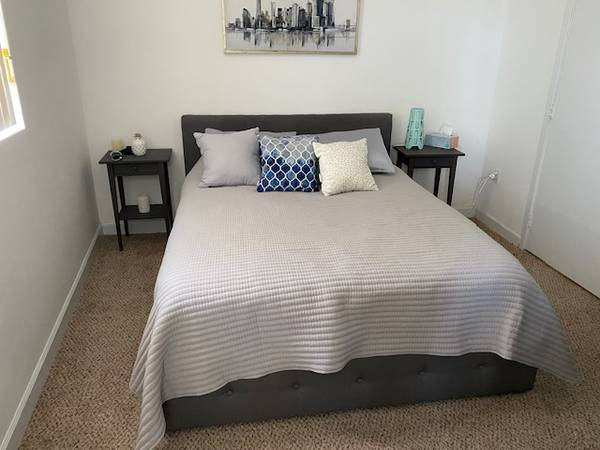bed: (158, 116, 544, 435)
night stand: (102, 148, 173, 252), (396, 144, 464, 202)
